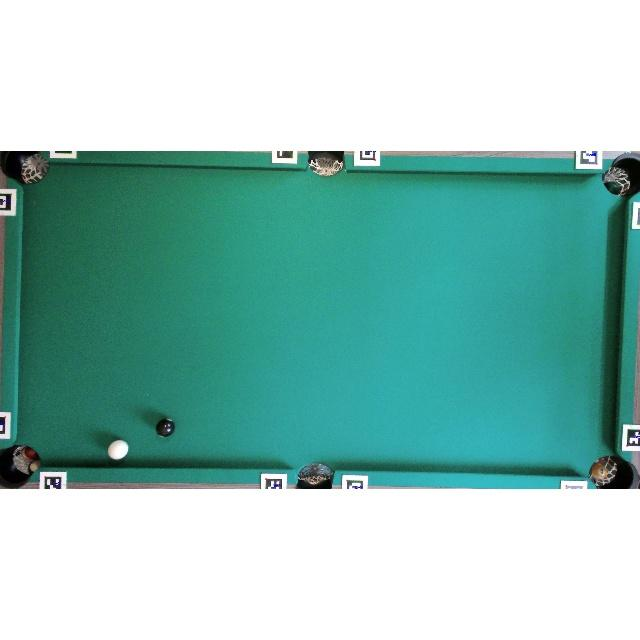cue ball: (106, 439, 130, 460)
other: (155, 418, 175, 437)
